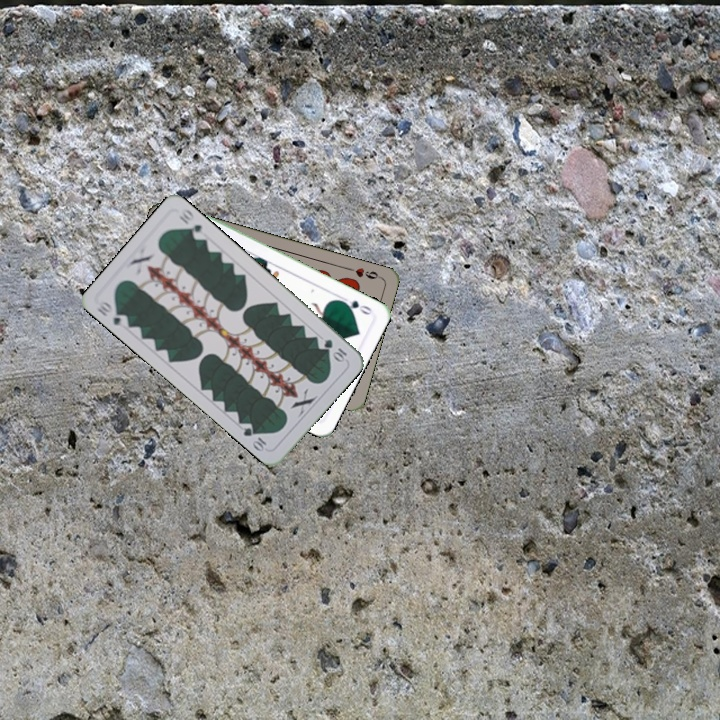G10: (93, 296, 131, 331), (320, 335, 349, 365)
GO: (336, 293, 374, 318)
H9: (344, 263, 384, 282)
